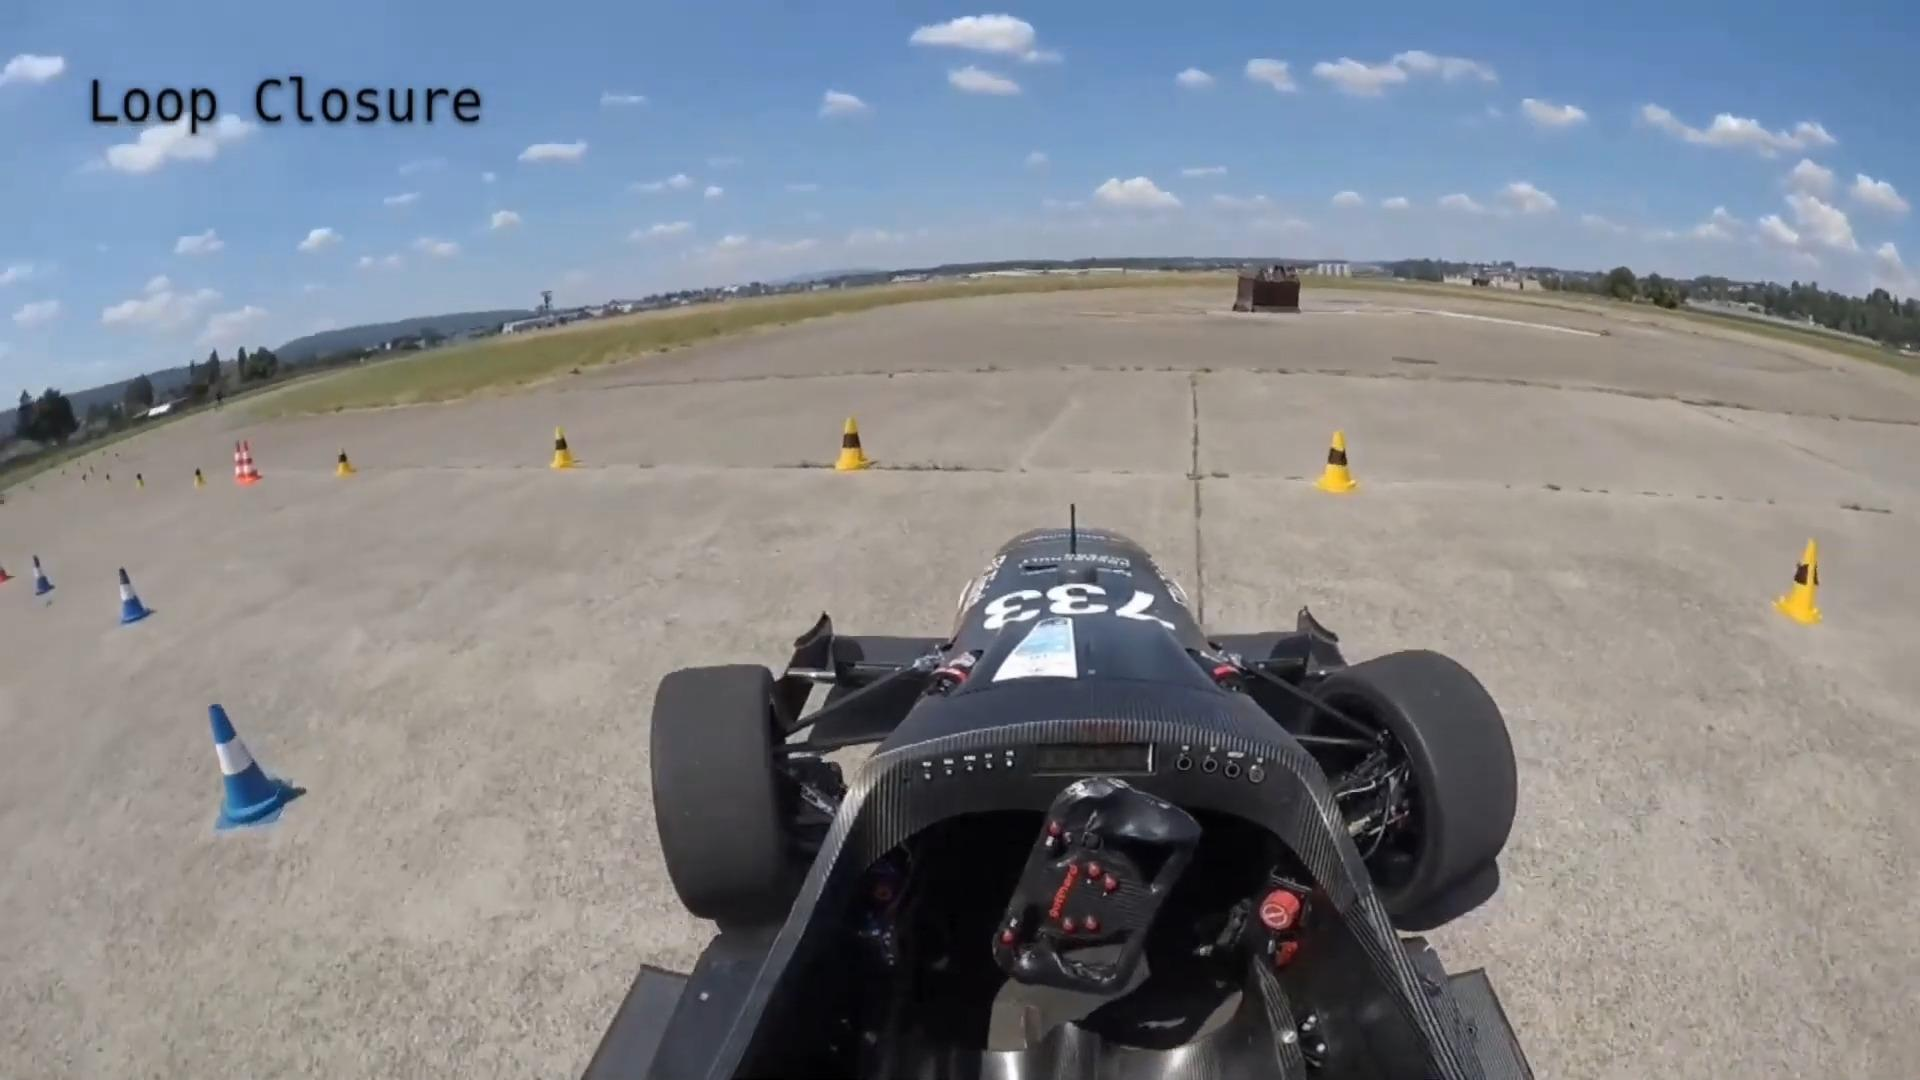blue_cone: (200, 702, 301, 833), (113, 564, 154, 626), (29, 554, 58, 596)
large_orange_cone: (241, 438, 261, 487), (232, 439, 247, 484), (0, 546, 12, 583)
yellow_cone: (1772, 533, 1829, 628), (1309, 429, 1364, 497), (828, 414, 874, 473), (546, 426, 582, 471), (335, 447, 359, 479)
